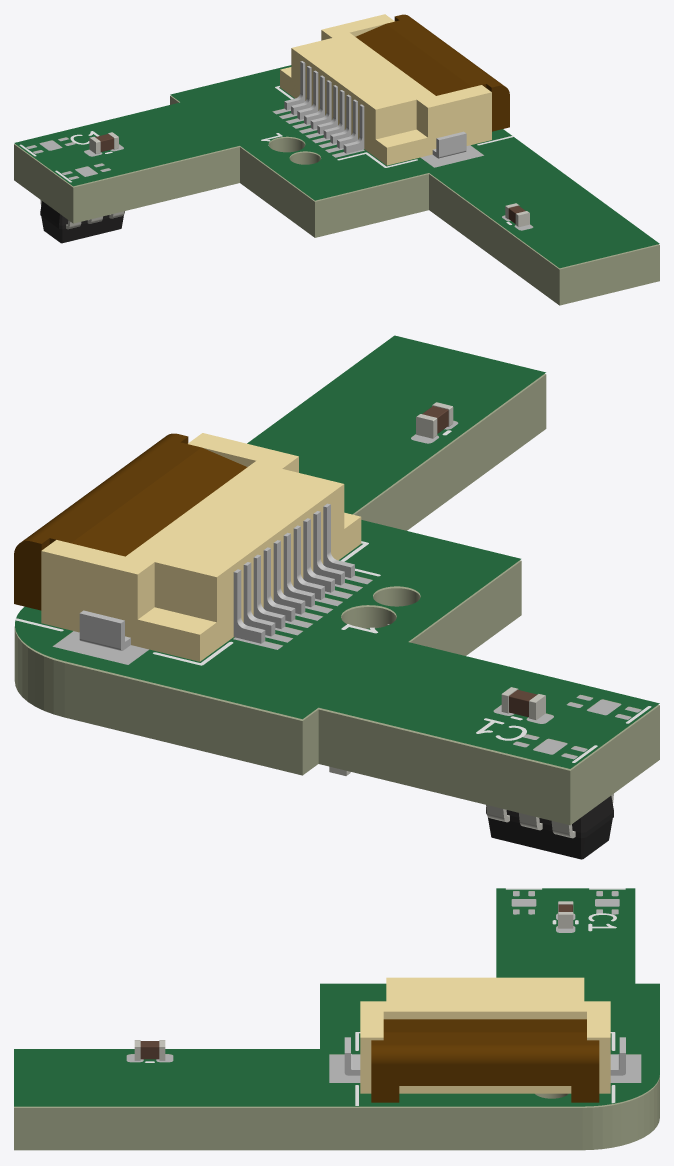
The model's file is bench_pod_board.glb.
3 views of the same model, one above another, from view 1: azimuth 30°, elevation 25°; view 2: azimuth 150°, elevation 25°; view 3: azimuth 270°, elevation 25° (orthographic). The views are drawn at different scales.
Visible parts, largest first — view 1: pod_soldermask, pod_PCB, Hirose_FH12_xxS_0_5SH_Parametric_v0_1, lock, pins, SOT-23-6, C_0402_1005Metric (×2), pod_pad (19); view 2: pod_soldermask, pod_PCB, Hirose_FH12_xxS_0_5SH_Parametric_v0_1, lock, pins, SOT-23-6, C_0402_1005Metric (×2), pod_pad (20); view 3: pod_soldermask, pod_PCB, lock, Hirose_FH12_xxS_0_5SH_Parametric_v0_1, C_0402_1005Metric (×2), pins, pod_pad (19), pod_pad (20).
Boxes of the visible parts, x1,y1,x2,y2 form: pod_soldermask: (14,65,659,268); pod_PCB: (14,95,659,305); Hirose_FH12_xxS_0_5SH_Parametric_v0_1: (280,14,491,165); lock: (355,14,509,131); pins: (284,61,466,158); SOT-23-6: (40,200,124,243); C_0402_1005Metric (×2): (89,132,529,227); pod_pad (19): (420,145,483,167); pod_soldermask: (15,335,659,768); pod_PCB: (14,374,659,825); Hirose_FH12_xxS_0_5SH_Parametric_v0_1: (41,433,361,661); lock: (14,433,247,610); pins: (79,503,354,650); SOT-23-6: (486,793,613,859); C_0402_1005Metric (×2): (416,402,545,720); pod_pad (20): (53,631,148,664); pod_soldermask: (14,888,659,1106); pod_PCB: (14,891,659,1150); lock: (371,1019,599,1102); Hirose_FH12_xxS_0_5SH_Parametric_v0_1: (360,977,610,1093); C_0402_1005Metric (×2): (134,901,573,1060); pins: (344,1037,625,1075); pod_pad (19): (329,1054,360,1082); pod_pad (20): (610,1054,641,1082).
Bounding box in the file's own units: 0.0168 × 0.00523 × 0.0209.
